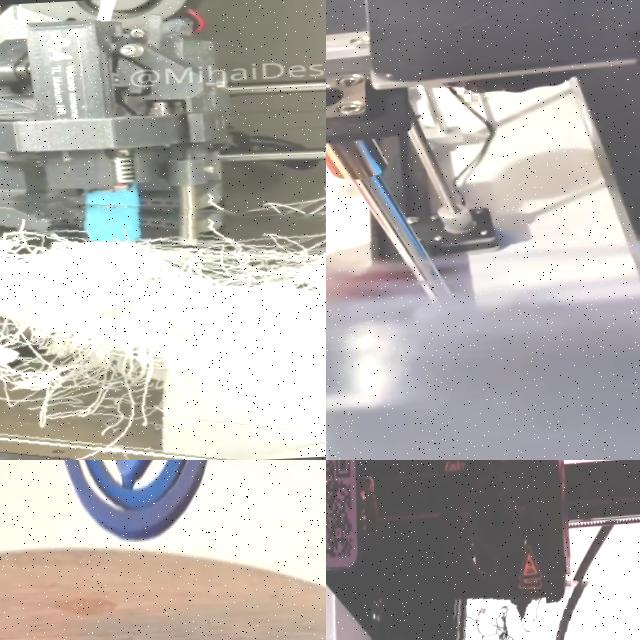spaghetti: (0, 164, 326, 460), (447, 556, 640, 640)
